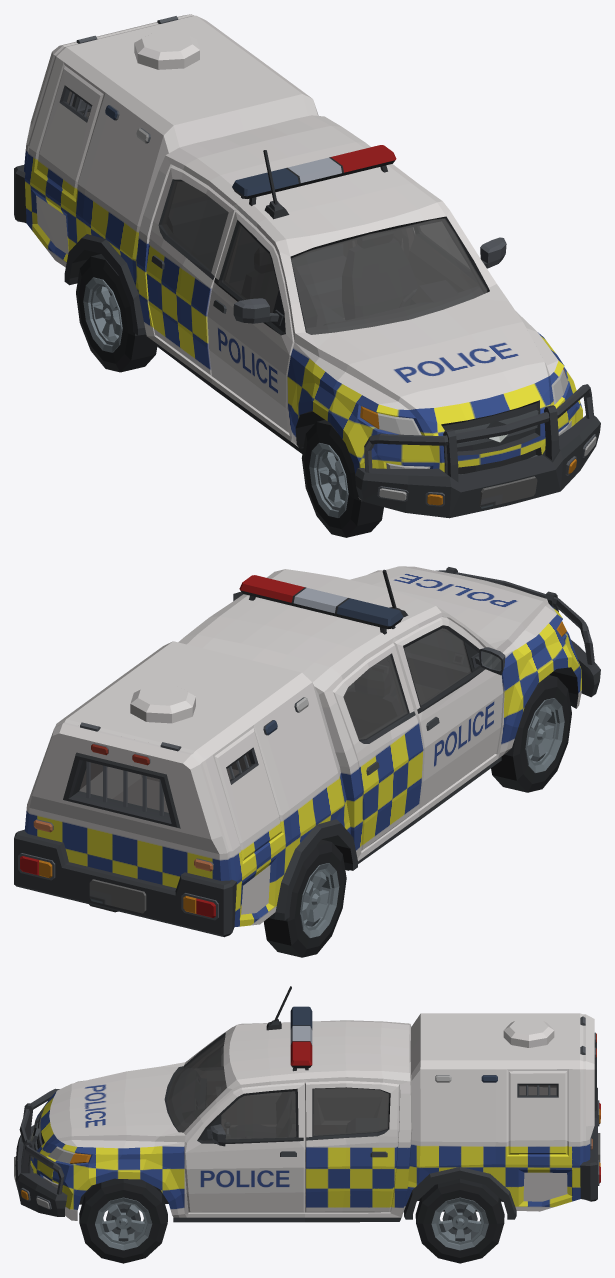
The model's file is SM_Veh_Pickup_01.fbx.
The picture shows the model from 3 angles, top to bottom: view 1: azimuth 30°, elevation 25°; view 2: azimuth 150°, elevation 25°; view 3: azimuth 270°, elevation 25°; orthographic projection. The views are drawn at different scales.
Parts seen in each view (by area): view 1: SM_Veh_Pickup_01, SM_Veh_Pickup_01_Door_RR_Glass, SM_Veh_Pickup_01_Door_FR_Glass, SM_Veh_Pickup_01_Door_FL_Glass; view 2: SM_Veh_Pickup_01, SM_Veh_Pickup_01_Door_RR_Glass, SM_Veh_Pickup_01_Door_FR_Glass; view 3: SM_Veh_Pickup_01, SM_Veh_Pickup_01_Door_RL_Glass, SM_Veh_Pickup_01_Door_FL_Glass.
Part boxes in pixels (box(x1,y1,x2,y2)): SM_Veh_Pickup_01: box(14, 14, 600, 537); SM_Veh_Pickup_01_Door_RR_Glass: box(161, 180, 228, 271); SM_Veh_Pickup_01_Door_FR_Glass: box(222, 225, 278, 312); SM_Veh_Pickup_01_Door_FL_Glass: box(419, 222, 469, 269); SM_Veh_Pickup_01: box(14, 566, 600, 957); SM_Veh_Pickup_01_Door_RR_Glass: box(343, 655, 407, 739); SM_Veh_Pickup_01_Door_FR_Glass: box(404, 628, 471, 705); SM_Veh_Pickup_01: box(14, 986, 600, 1263); SM_Veh_Pickup_01_Door_RL_Glass: box(313, 1087, 389, 1135); SM_Veh_Pickup_01_Door_FL_Glass: box(221, 1091, 296, 1139).
Size of the model in its own units: 243 by 250 by 614.
